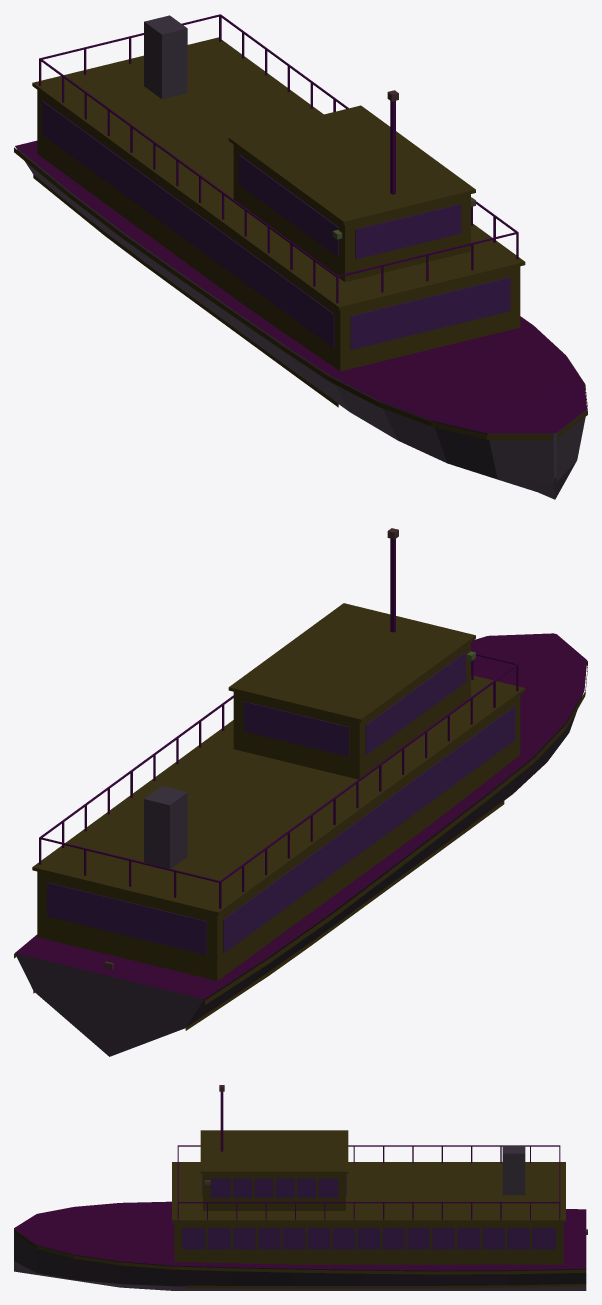
The model's file is boat_ferry.glb.
The picture shows the model from 3 angles, top to bottom: view 1: azimuth 30°, elevation 25°; view 2: azimuth 150°, elevation 25°; view 3: azimuth 270°, elevation 25°; orthographic projection. The views are drawn at different scales.
Parts seen in each view (by area): view 1: boat_ferry; view 2: boat_ferry; view 3: boat_ferry.
Part boxes in pixels (x1,y1,x2,y2): boat_ferry: (14,14,587,499); boat_ferry: (14,528,587,1056); boat_ferry: (14,1085,587,1290).
Bounding box in the file's own units: 8.06 × 11.84 × 30.08.
